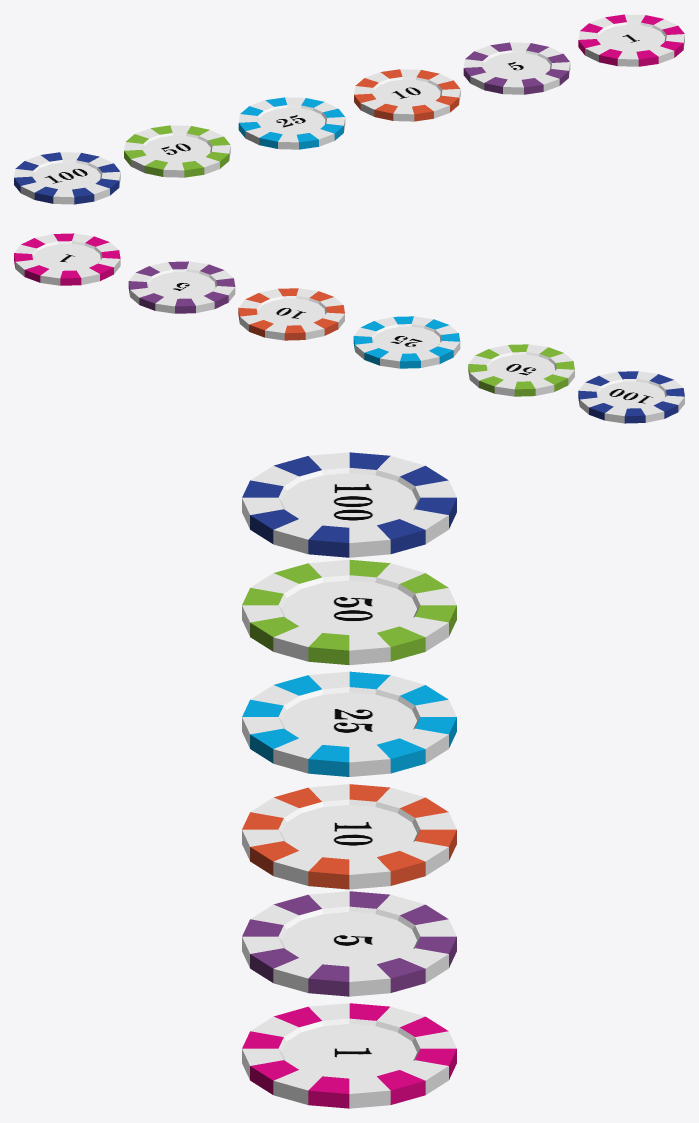
File: Chips.fbx
3 renders of one model, top to bottom at view 1: azimuth 30°, elevation 25°; view 2: azimuth 150°, elevation 25°; view 3: azimuth 270°, elevation 25°, orthographic. The views are drawn at different scales.
Visible parts, largest first — view 1: Chips; view 2: Chips; view 3: Chips.
Part boxes in pixels (<box>): Chips: <box>14,14,684,204</box>; Chips: <box>14,233,684,423</box>; Chips: <box>242,452,456,1108</box>.
Size of the model in its own units: 19.6 by 0.208 by 2.78.
6 materials, 6 textured.
